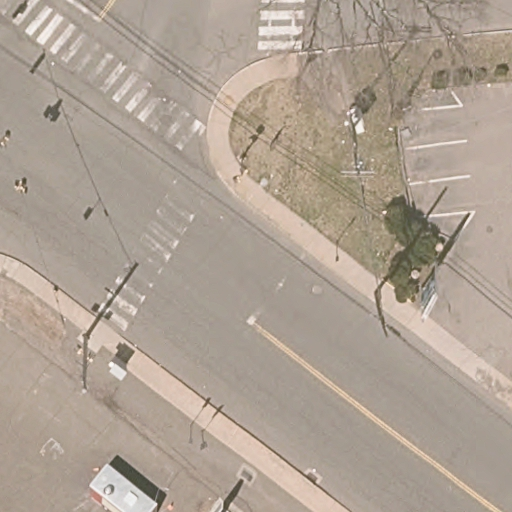DT: (373, 288, 401, 338), (340, 150, 375, 180)
